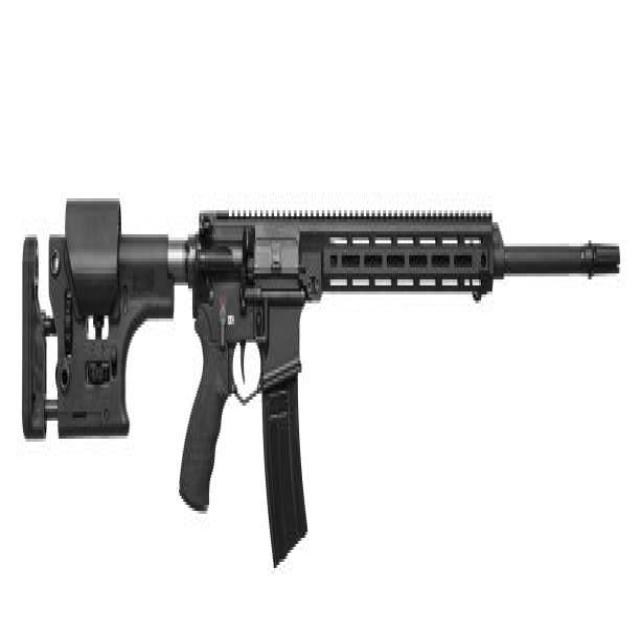rifle: (20, 175, 622, 597)
